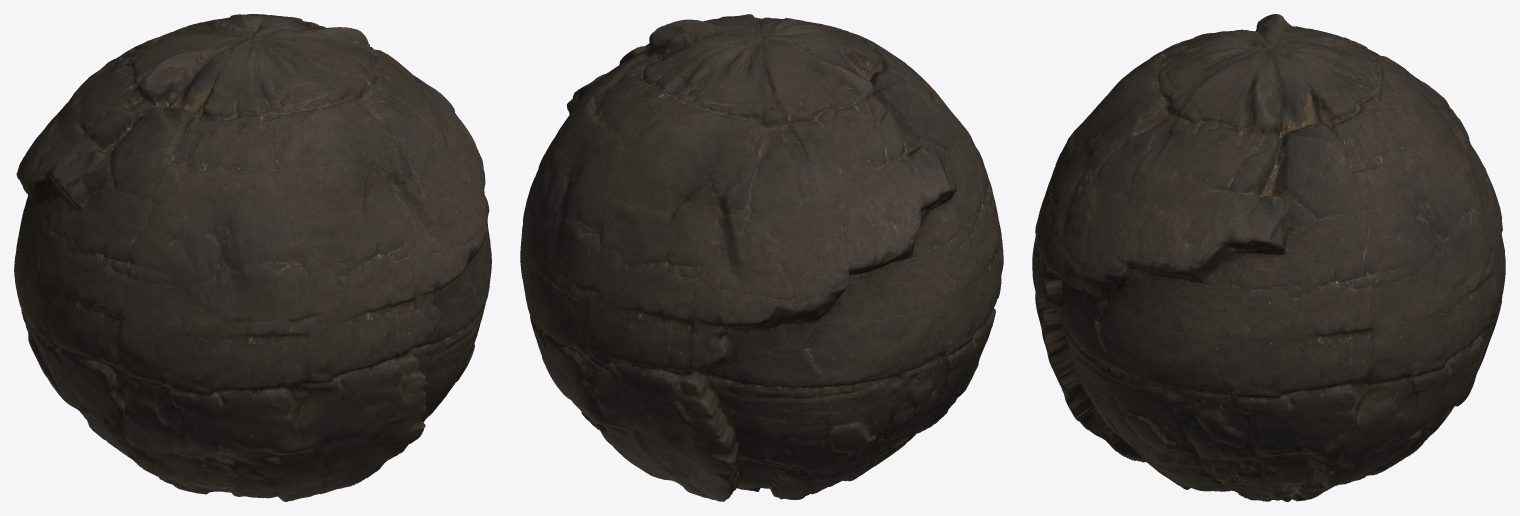
File: dark_rock_02_1k.gltf
The picture shows the model from 3 angles, left to right: view 1: azimuth 30°, elevation 25°; view 2: azimuth 150°, elevation 25°; view 3: azimuth 270°, elevation 25°; orthographic projection. The views are drawn at different scales.
Parts seen in each view (by area): view 1: sphere_gltf; view 2: sphere_gltf; view 3: sphere_gltf.
Part boxes in pixels (x1,y1,x2,y2): sphere_gltf: [14, 14, 491, 501]; sphere_gltf: [520, 14, 1003, 501]; sphere_gltf: [1032, 14, 1505, 501].
Size of the model in its own units: 2 by 2.01 by 2.
Materials: 1 (1 with a texture image).
